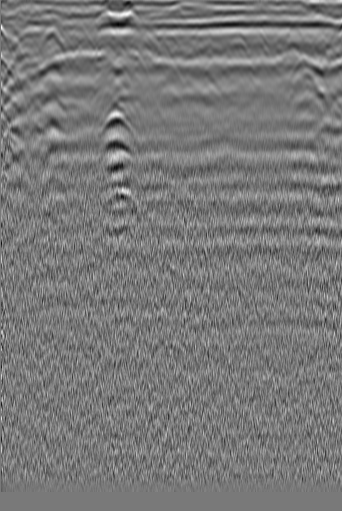가스: (93, 133, 135, 174)
상수: (1, 50, 42, 87)
오수: (288, 52, 328, 87)
우수: (135, 28, 168, 70)
